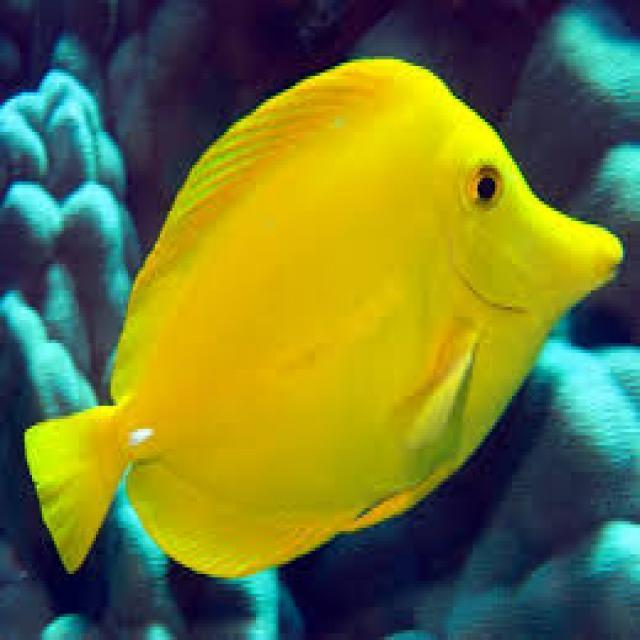TangFish: (13, 56, 628, 583)
